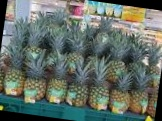Pineapple: (22, 48, 48, 100), (87, 54, 110, 111)
